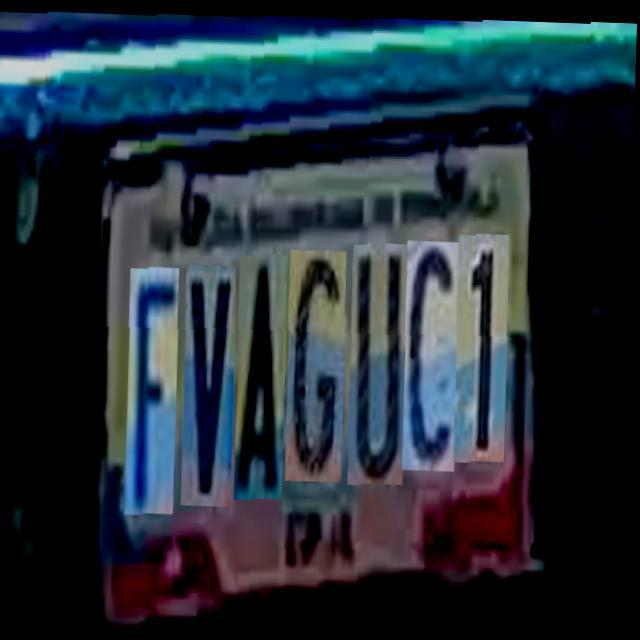1: (455, 230, 511, 458)
A: (236, 247, 289, 493)
C: (404, 236, 461, 467)
F: (126, 259, 180, 506)
G: (287, 244, 348, 476)
U: (350, 238, 410, 480)
V: (183, 258, 238, 500)
